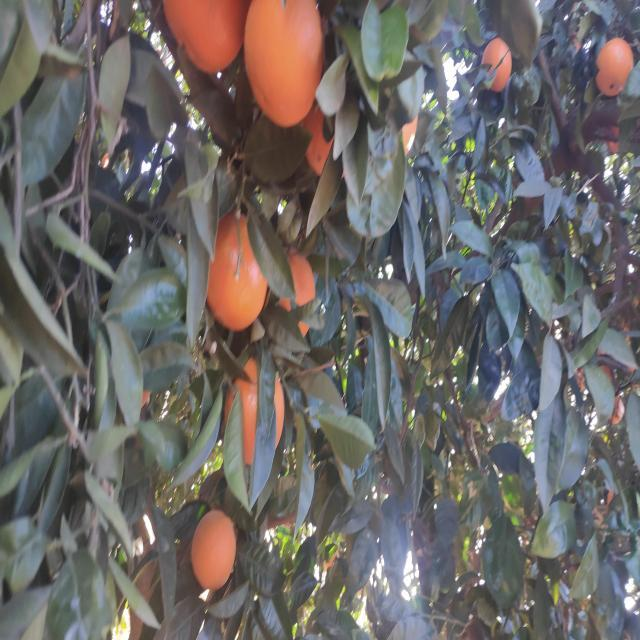Jeruk Sudah Matang: (244, 0, 324, 127), (204, 210, 266, 328), (224, 356, 284, 462), (161, 0, 248, 73), (271, 248, 316, 338), (190, 508, 238, 590), (303, 104, 336, 174), (596, 39, 634, 96), (481, 39, 513, 89), (235, 588, 236, 592)
